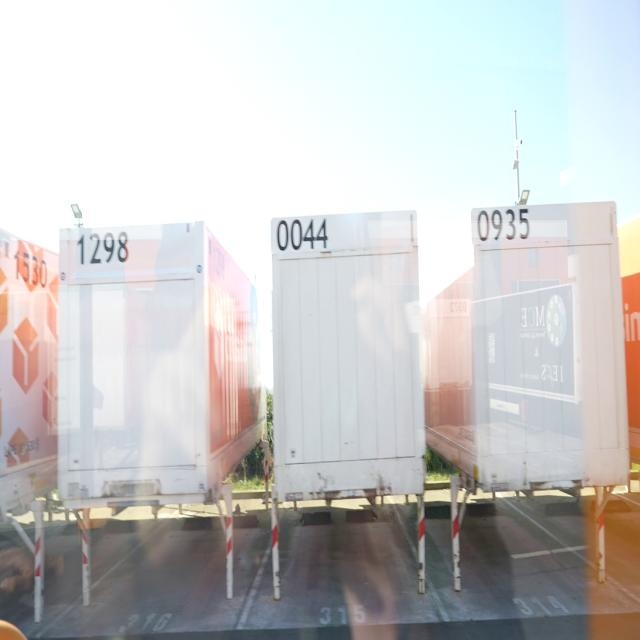Code: (74, 230, 136, 273), (274, 215, 332, 255), (478, 206, 531, 246)
